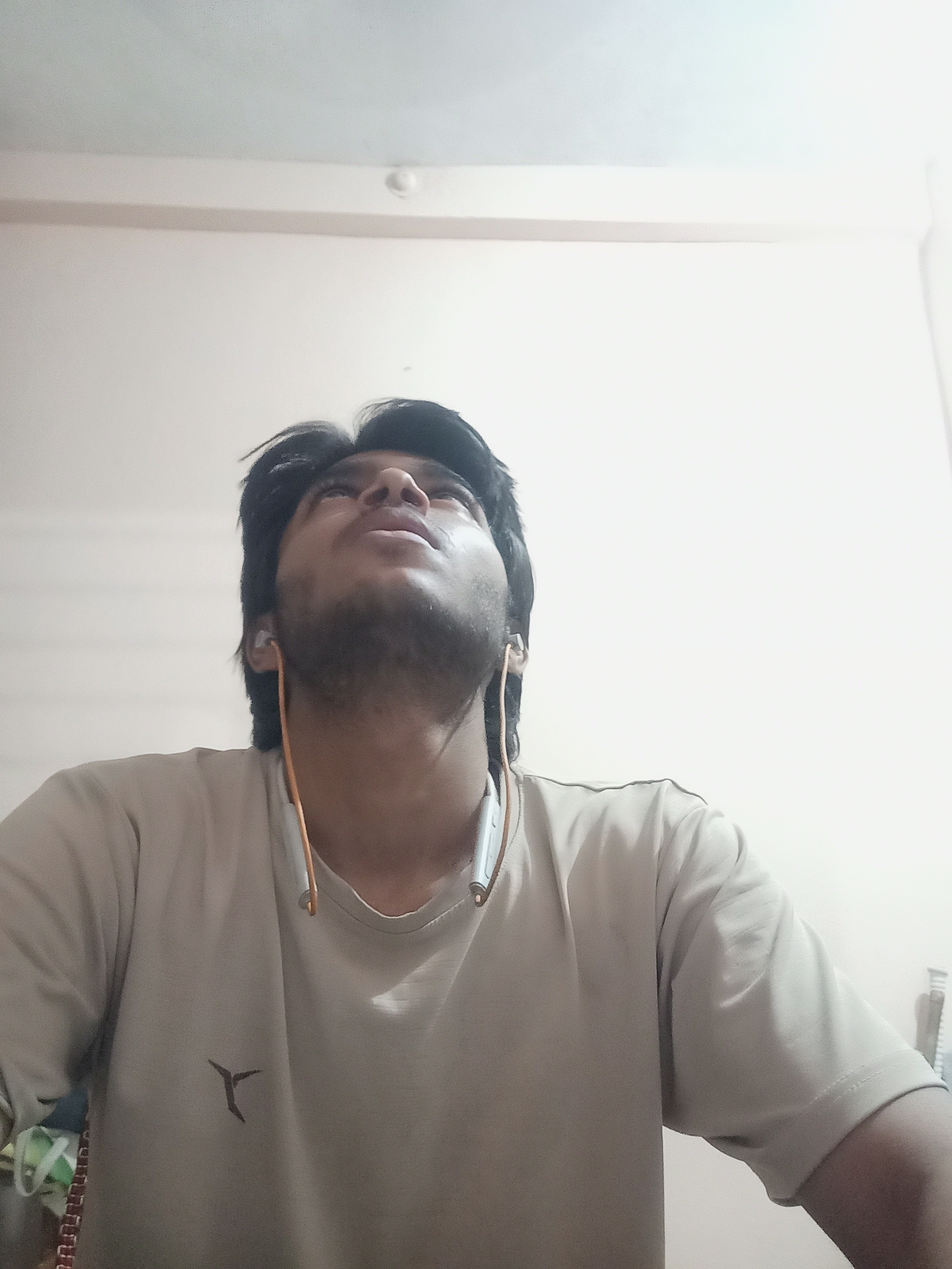distracted: (181, 304, 627, 813)
